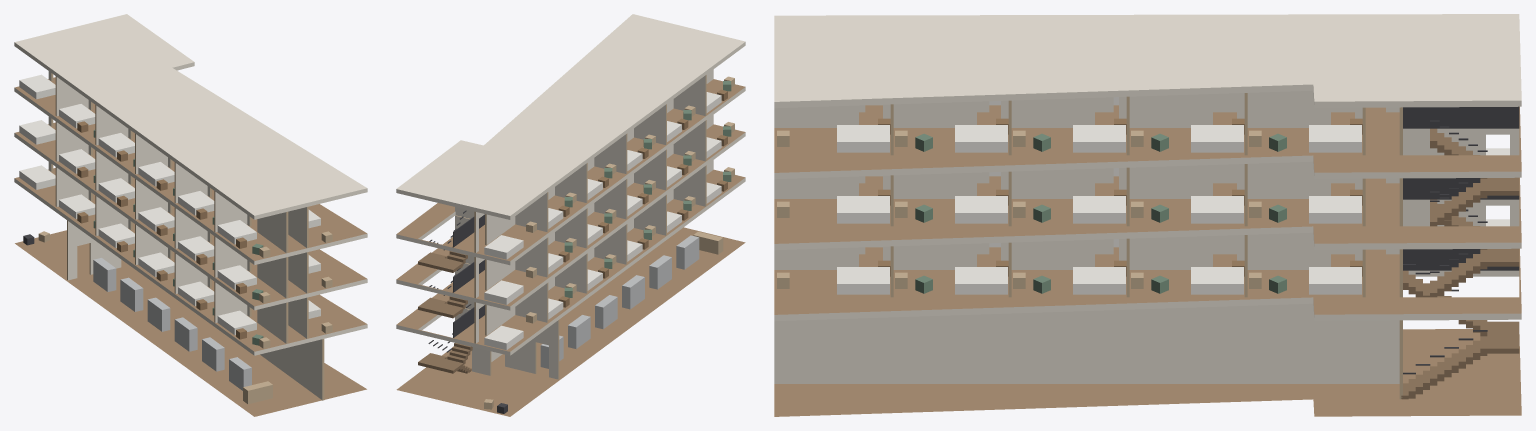
Rendered from interior.glb.
3 views of the same model, side by side, from view 1: azimuth 30°, elevation 25°; view 2: azimuth 150°, elevation 25°; view 3: azimuth 270°, elevation 25° (orthographic). The views are drawn at different scales.
Parts seen in each view (by area): view 1: slabs, partitions, coarse-s1, coarse-s2, coarse-s3, coarse-s0; view 2: slabs, partitions, coarse-s0, stair, coarse-s1, coarse-s2, coarse-s3; view 3: slabs, partitions, stair, coarse-s1, coarse-s2, coarse-s3.
Part boxes in pixels (<box>): slabs: <box>14,14,367,416</box>; partitions: <box>48,71,324,400</box>; coarse-s1: <box>19,165,332,348</box>; coarse-s2: <box>19,120,332,303</box>; coarse-s3: <box>19,74,332,257</box>; coarse-s0: <box>23,231,272,404</box>; slabs: <box>396,14,745,416</box>; partitions: <box>455,69,713,379</box>; coarse-s0: <box>484,231,723,413</box>; stair: <box>418,210,484,373</box>; coarse-s1: <box>484,167,734,350</box>; coarse-s2: <box>484,122,734,304</box>; coarse-s3: <box>484,76,734,259</box>; slabs: <box>774,14,1521,416</box>; partitions: <box>774,90,1519,399</box>; stair: <box>1401,106,1519,399</box>; coarse-s1: <box>777,219,1509,294</box>; coarse-s2: <box>777,148,1509,223</box>; coarse-s3: <box>777,97,1362,152</box>.
Size of the model in its own units: 7.84 by 13.1 by 28.14.
